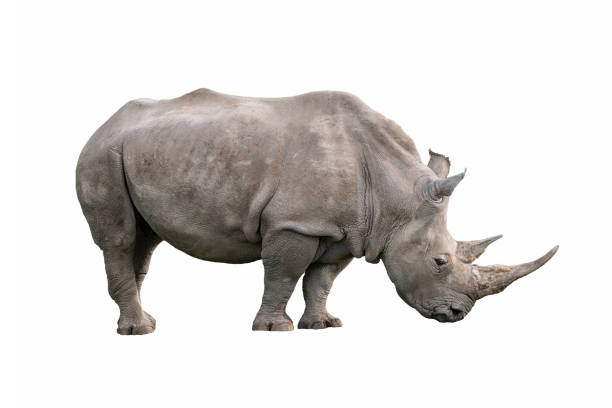rhino: (401, 139, 568, 336)
